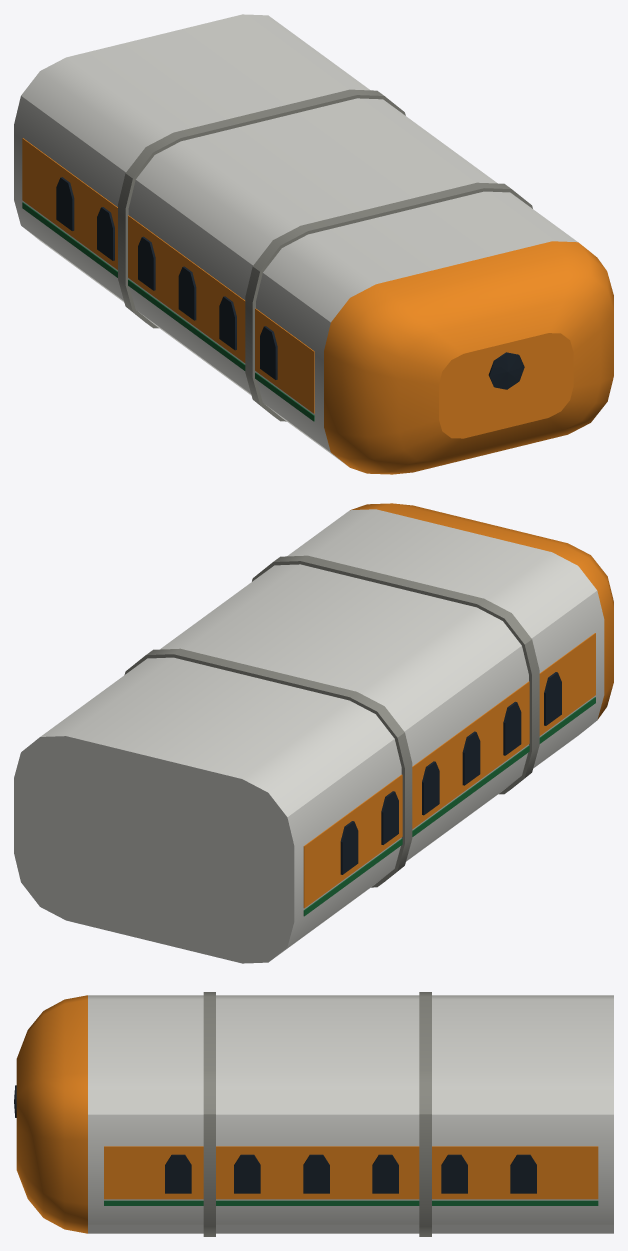
Rendered from refuge100_hull.obj.
3 views of the same model, one above another, from view 1: azimuth 30°, elevation 25°; view 2: azimuth 150°, elevation 25°; view 3: azimuth 270°, elevation 25° (orthographic). The views are drawn at different scales.
Visible parts, largest first — view 1: refuge100_hull; view 2: refuge100_hull; view 3: refuge100_hull.
Boxes of the visible parts, left/top/right/bottom form: refuge100_hull: left=14, top=14, right=613, bottom=474; refuge100_hull: left=14, top=503, right=613, bottom=963; refuge100_hull: left=14, top=992, right=613, bottom=1236.
Bounding box in the file's own units: 3.58 × 2.28 × 7.64.
